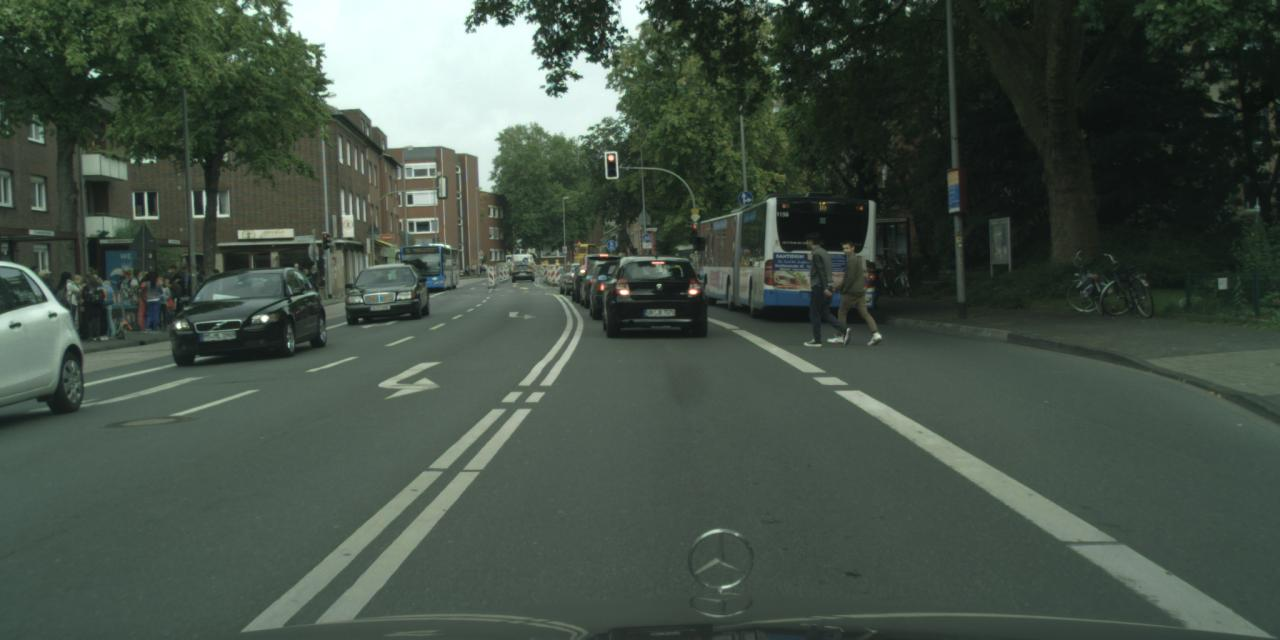ped: (800, 232, 845, 342), (53, 270, 114, 342), (129, 264, 190, 334), (830, 240, 871, 342), (63, 273, 85, 329), (96, 281, 118, 337), (203, 268, 225, 322), (190, 269, 211, 322), (186, 264, 207, 316), (188, 274, 208, 322), (286, 262, 302, 302), (296, 268, 312, 304), (306, 264, 321, 300), (30, 266, 51, 290), (688, 253, 698, 281), (479, 263, 487, 277), (471, 263, 475, 275), (465, 264, 469, 275)
